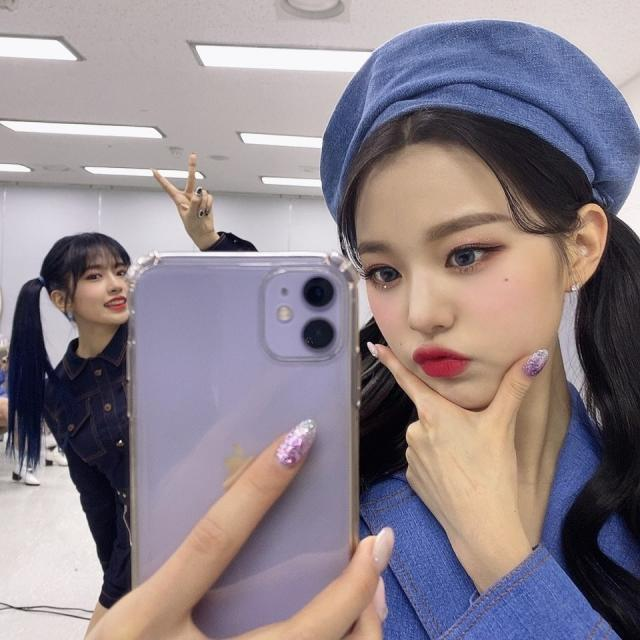phone: (130, 253, 356, 640)
